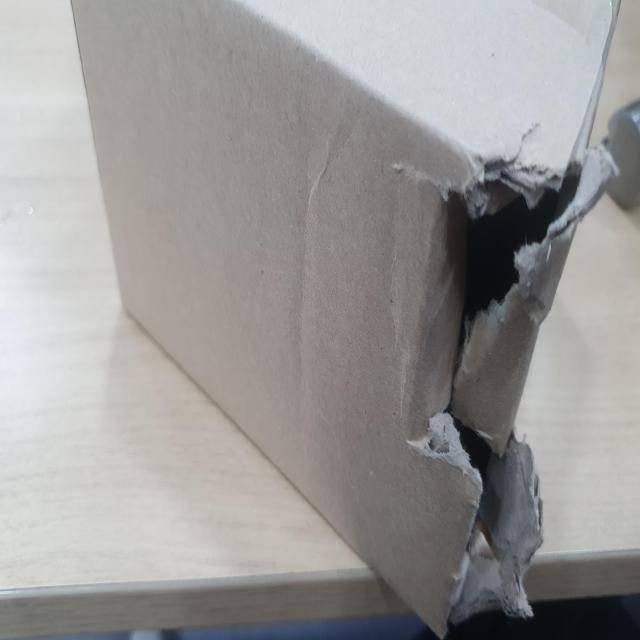damaged: (396, 125, 622, 640)
